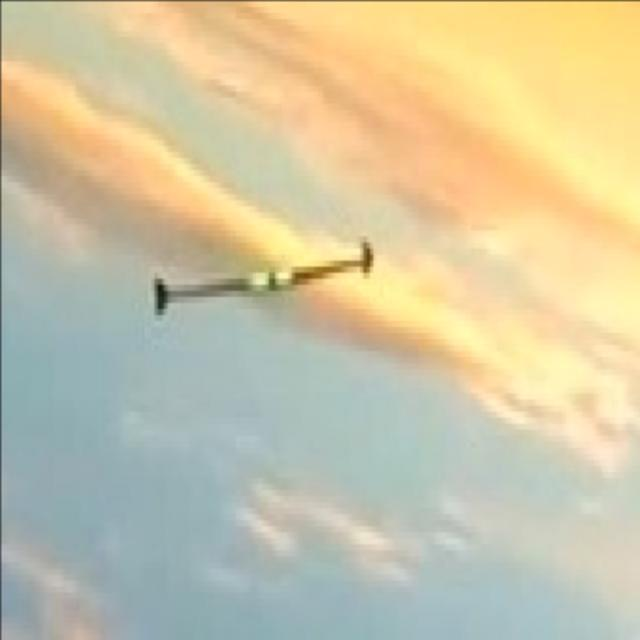plane: (150, 239, 373, 318)
